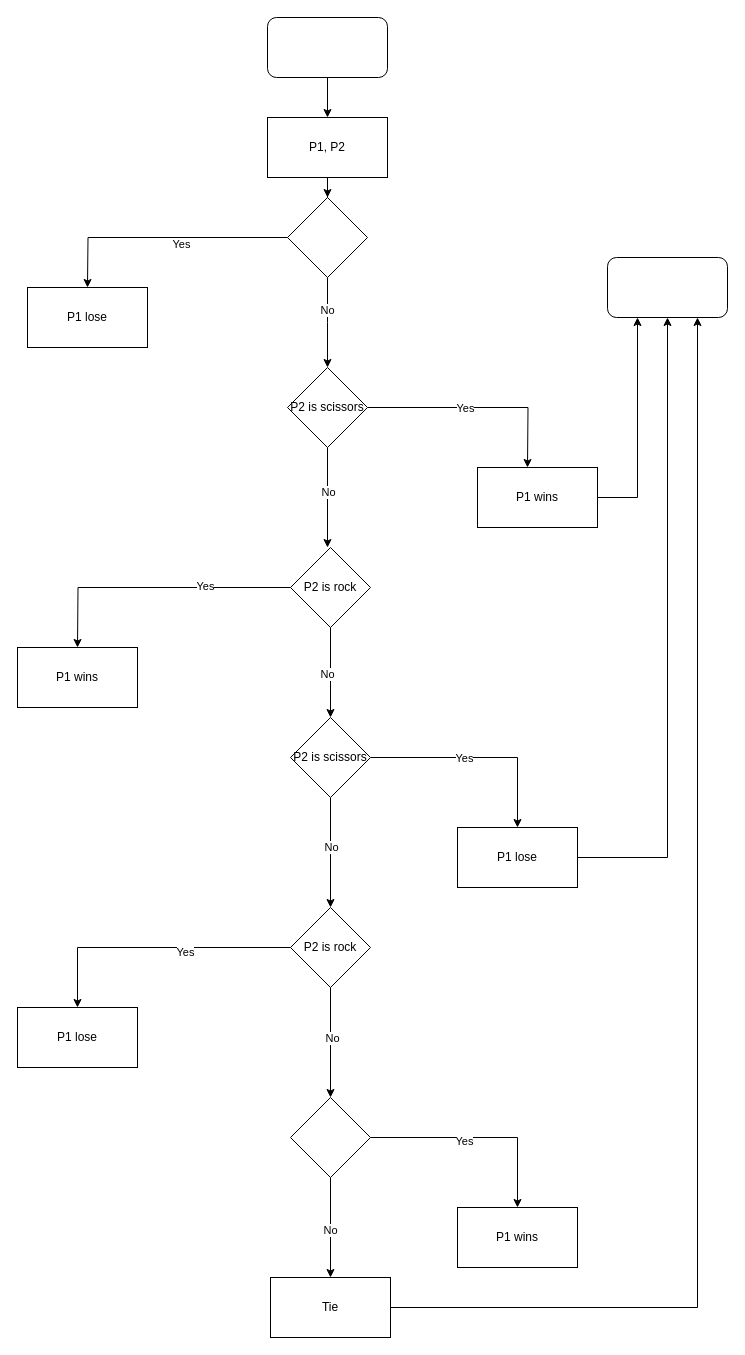
Image size: 745x1355. Some labels were removed from this diagram. The centre of each missing label's shape, as x and y in pixels:
End: the point at 667,287
P2 is paper: the point at 327,237
P2 is papir: the point at 330,1137
Start: the point at 327,47
